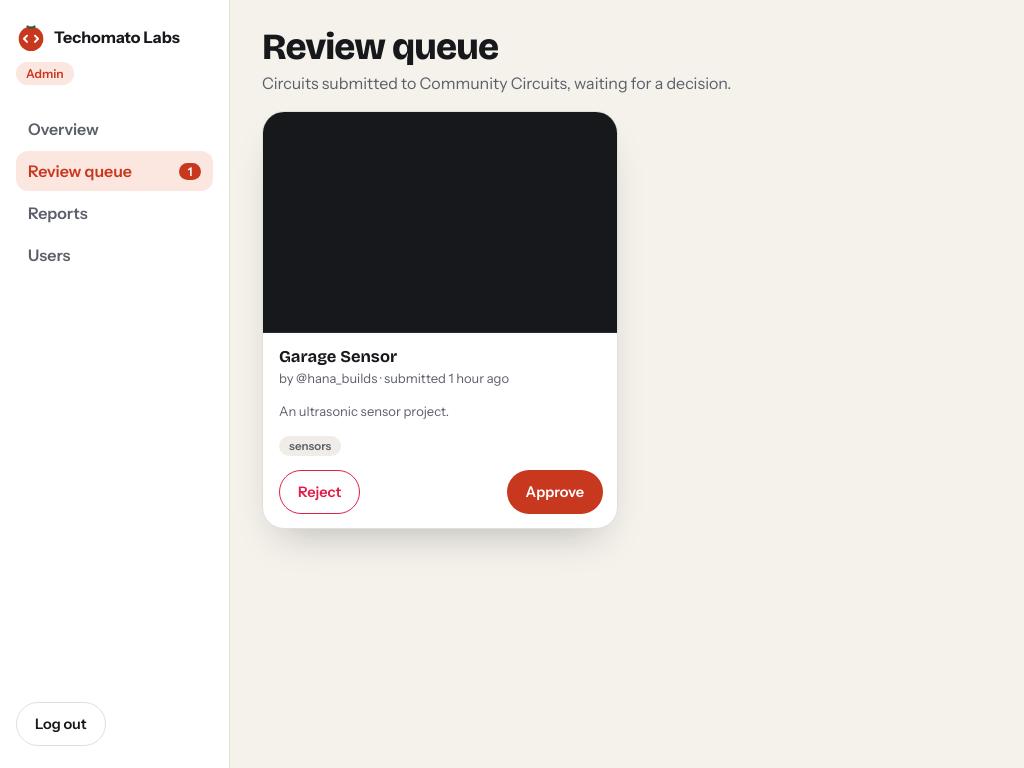
Test: AdminPanelPage › approves an item and removes it from the list
Expected: the text "Garage Sensor" is shown, [279,347,397,366]
Click the button "Approve".
click(555, 492)  # box [506,470,603,514]
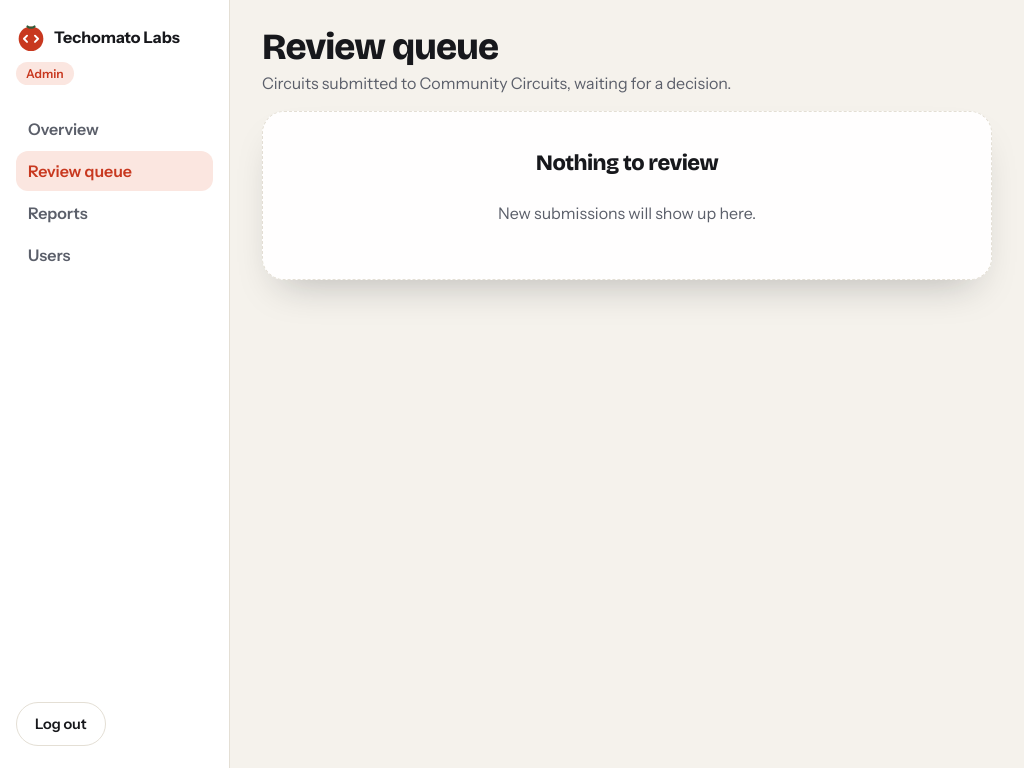
Expected: the text "Garage Sensor" is gone
Expected: the heading "Nothing to review" is shown, [536,152,718,175]
